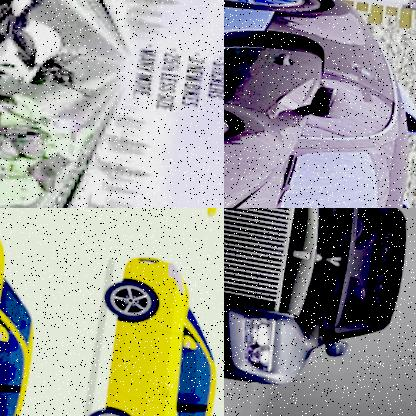bike: (0, 89, 99, 208)
car: (224, 0, 416, 208), (224, 208, 416, 404), (82, 241, 224, 416), (0, 208, 53, 416)
